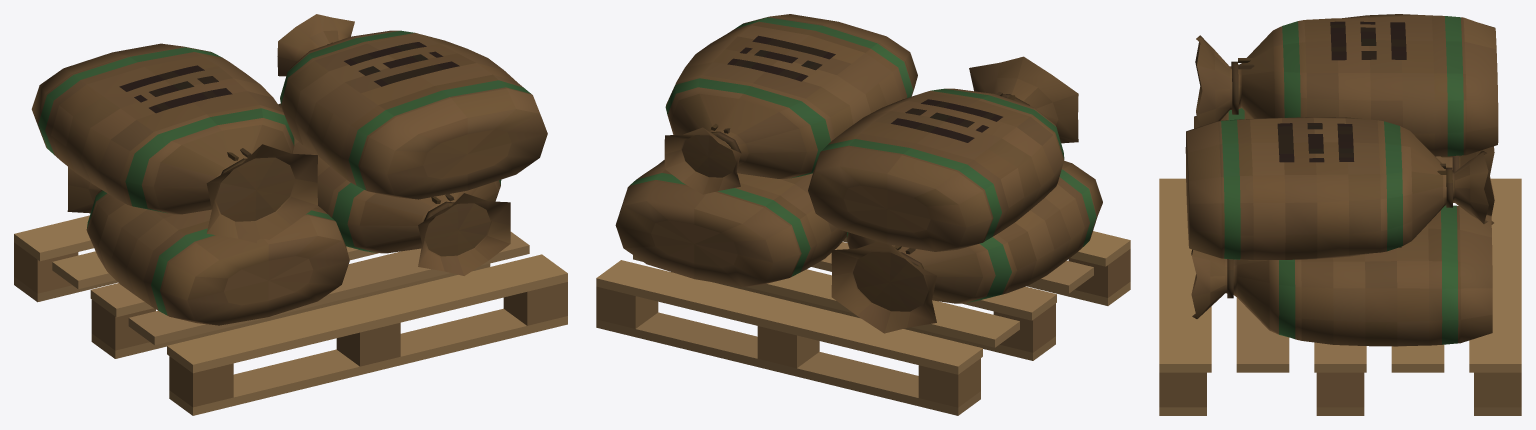
Rendered from coffee-beans-pallet.glb.
3 renders of one model, left to right at view 1: azimuth 30°, elevation 25°; view 2: azimuth 150°, elevation 25°; view 3: azimuth 270°, elevation 25°, orthographic. The views are drawn at different scales.
Parts seen in each view (by area): view 1: coffee-beans-pallet; view 2: coffee-beans-pallet; view 3: coffee-beans-pallet.
Boxes of the visible parts, x1=… form: coffee-beans-pallet: x1=14, y1=14, x2=567, y2=415; coffee-beans-pallet: x1=596, y1=14, x2=1130, y2=415; coffee-beans-pallet: x1=1159, y1=14, x2=1521, y2=415.
Bounding box in the file's own units: 0.9653 × 0.5501 × 0.76.
